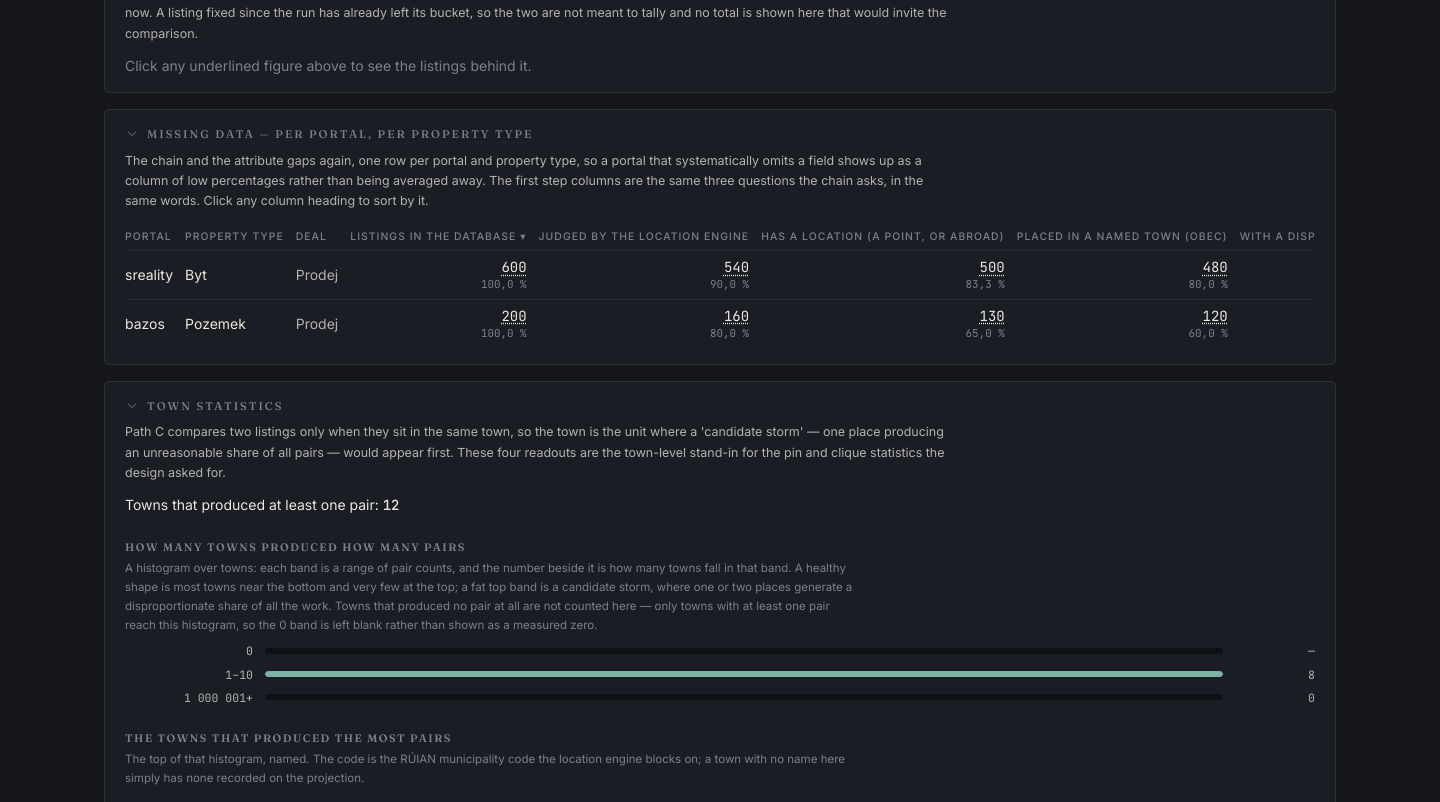
Scenario: <NewDedupCandidates> › folds a section away while keeping its explanation on screen
(page scrolled)
Click the button "Town statistics". click: coordinates (215, 406)
box: top-left (125, 398), bottom-right (1315, 414)
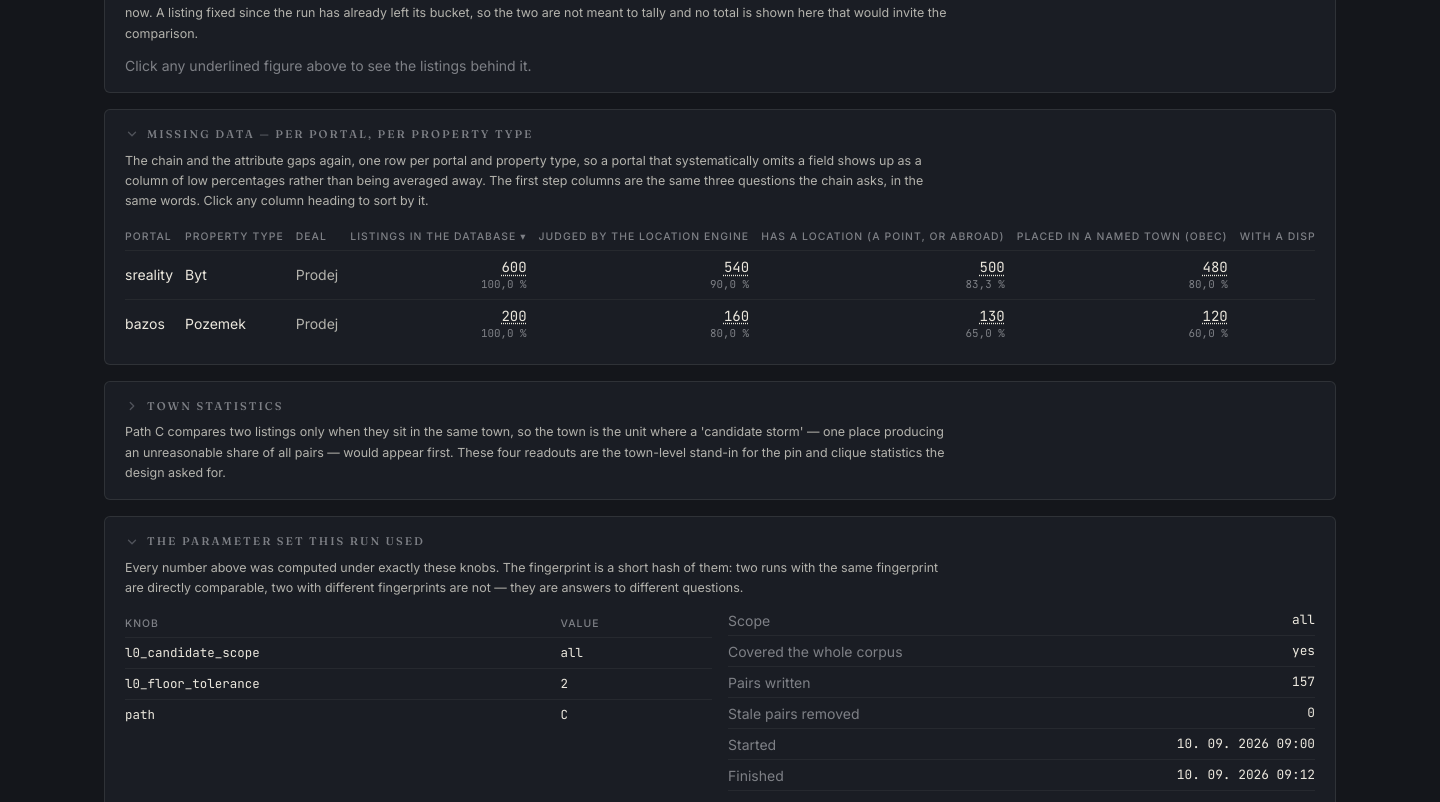
Result: the button "Town statistics" is collapsed at top-left (125, 398), bottom-right (1315, 414)
